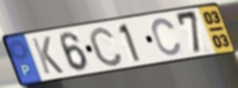1: (117, 22, 143, 64)
6: (58, 30, 91, 73)
7: (173, 9, 204, 57)
C: (86, 25, 125, 68), (151, 17, 183, 58)
K: (29, 35, 66, 76)
